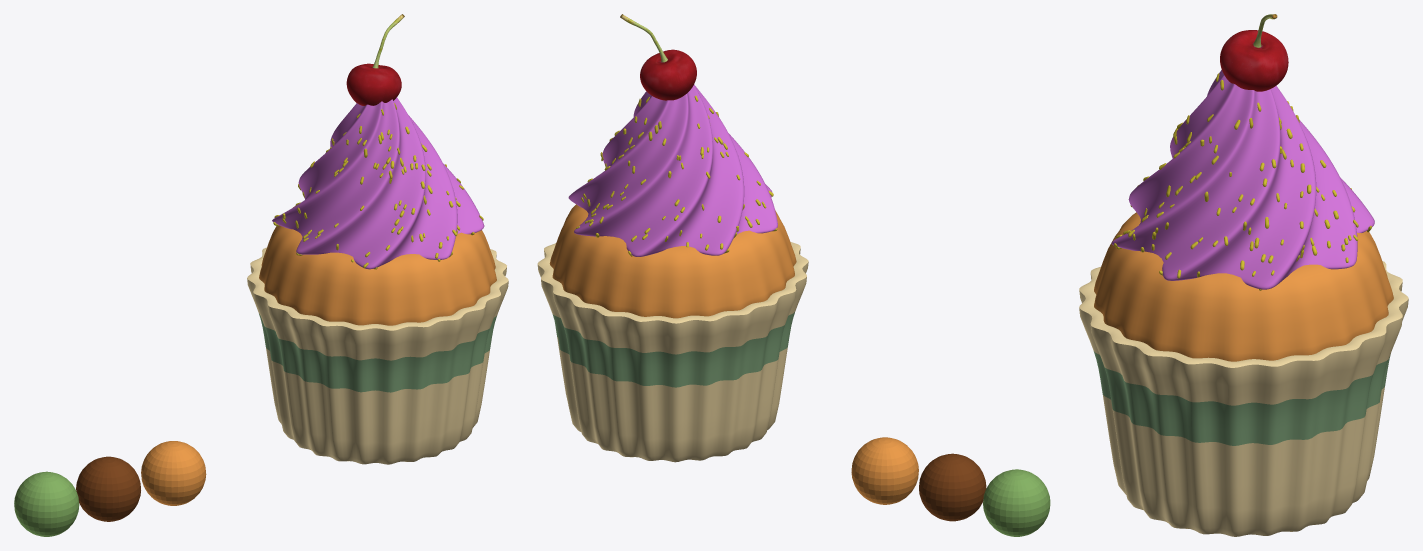
File: cupcake2.gltf
3 renders of one model, left to right at view 1: azimuth 30°, elevation 25°; view 2: azimuth 150°, elevation 25°; view 3: azimuth 270°, elevation 25°, orthographic. The views are drawn at different scales.
Visible parts, largest first — view 1: envase, crema, chocolate, CarrotObject, lemonObject, chocObject, cherry; view 2: envase, crema, chocolate, CarrotObject, lemonObject, chocObject, cherry; view 3: envase, crema, chocolate, cherry.
Boxes of the visible parts, <box> form: envase: <box>247,247,508,464</box>; crema: <box>272,97,484,269</box>; chocolate: <box>259,206,496,325</box>; CarrotObject: <box>141,441,206,505</box>; lemonObject: <box>14,471,79,536</box>; chocObject: <box>76,456,140,521</box>; cherry: <box>346,14,404,105</box>; envase: <box>537,242,808,462</box>; crema: <box>568,84,777,256</box>; chocolate: <box>549,204,796,318</box>; CarrotObject: <box>851,437,918,504</box>; lemonObject: <box>983,469,1050,536</box>; chocObject: <box>919,453,986,521</box>; cherry: <box>620,14,696,100</box>; envase: <box>1079,261,1408,536</box>; crema: <box>1111,70,1374,289</box>; chocolate: <box>1094,212,1393,361</box>; cherry: <box>1220,14,1288,91</box>.
Size of the model in its own units: 4.15 by 3.53 by 1.99.
Materials: 9 (1 with a texture image).
